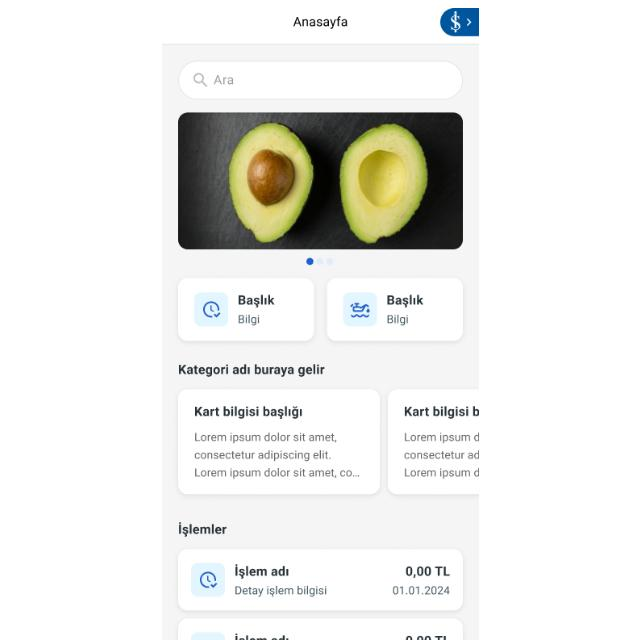QLabel: (174, 363, 326, 377), (192, 467, 358, 479), (190, 404, 304, 420), (191, 431, 337, 443), (192, 449, 330, 461), (234, 584, 328, 598), (400, 404, 478, 418), (290, 15, 348, 29), (232, 564, 288, 578), (402, 468, 478, 478), (402, 450, 478, 460), (402, 432, 478, 442), (176, 522, 227, 536), (390, 586, 450, 596), (402, 565, 450, 577), (237, 294, 276, 306), (385, 294, 423, 306), (232, 632, 288, 640), (237, 314, 260, 326), (386, 314, 408, 326), (404, 634, 448, 640)
VAppBar: (162, 1, 478, 44)
VCard: (178, 390, 378, 494), (175, 549, 462, 611), (388, 390, 478, 494), (176, 278, 314, 344), (326, 278, 462, 342), (177, 618, 461, 640)
VCarousel: (176, 111, 462, 267)
VImg: (438, 7, 478, 37), (342, 292, 376, 326), (190, 563, 224, 597), (193, 292, 227, 326), (190, 632, 223, 640)
VTextField: (177, 60, 461, 98)
